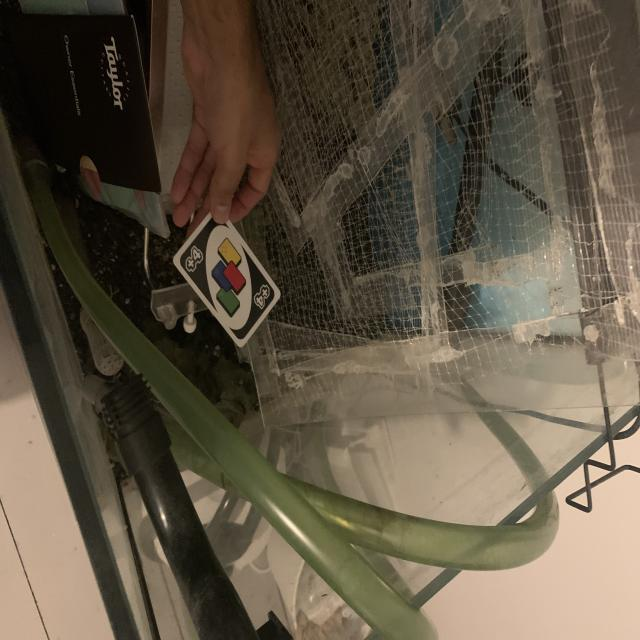lcolor-400: (182, 245, 205, 275)
